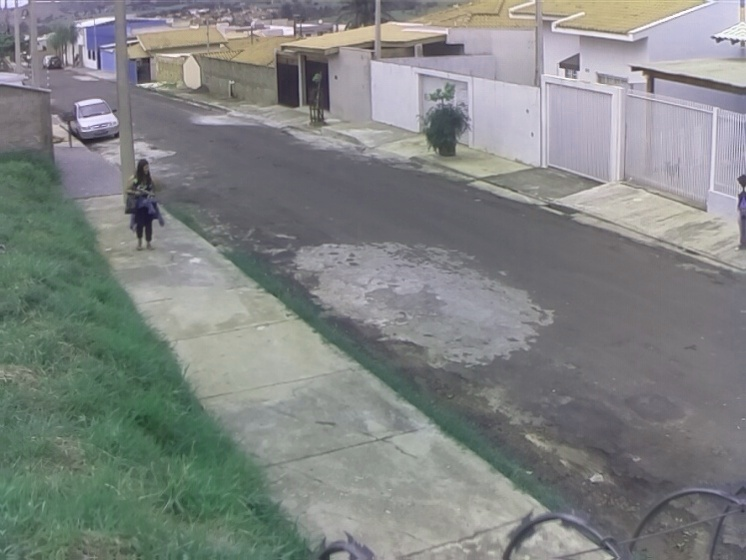person: (123, 157, 166, 254)
